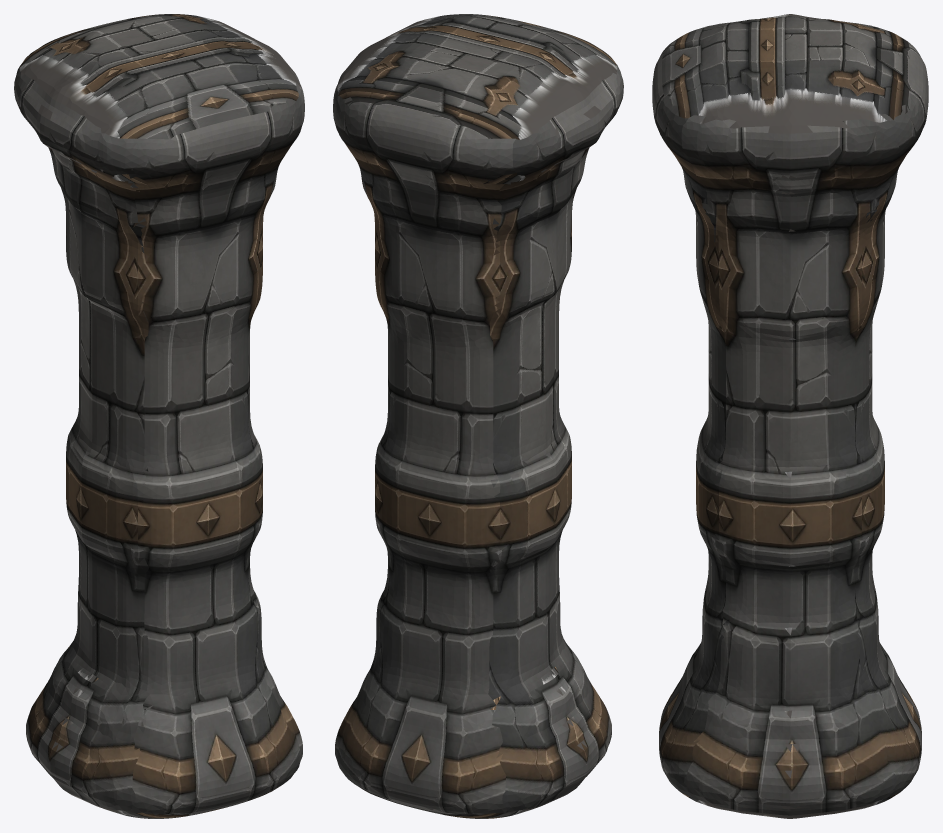
File: SM_Dungeon_Pillar_A.glb
3 views of the same model, side by side, from view 1: azimuth 30°, elevation 25°; view 2: azimuth 150°, elevation 25°; view 3: azimuth 270°, elevation 25° (orthographic).
Visible parts, largest first — view 1: SM_Dungeon_Pillar_A_Raw; view 2: SM_Dungeon_Pillar_A_Raw; view 3: SM_Dungeon_Pillar_A_Raw.
Boxes of the visible parts, x1,y1,x2,y2 form: SM_Dungeon_Pillar_A_Raw: [14, 14, 304, 818]; SM_Dungeon_Pillar_A_Raw: [333, 14, 623, 818]; SM_Dungeon_Pillar_A_Raw: [652, 14, 928, 818].
Size of the model in its own units: 1 by 3 by 1.
Materials: 1 (1 with a texture image).
